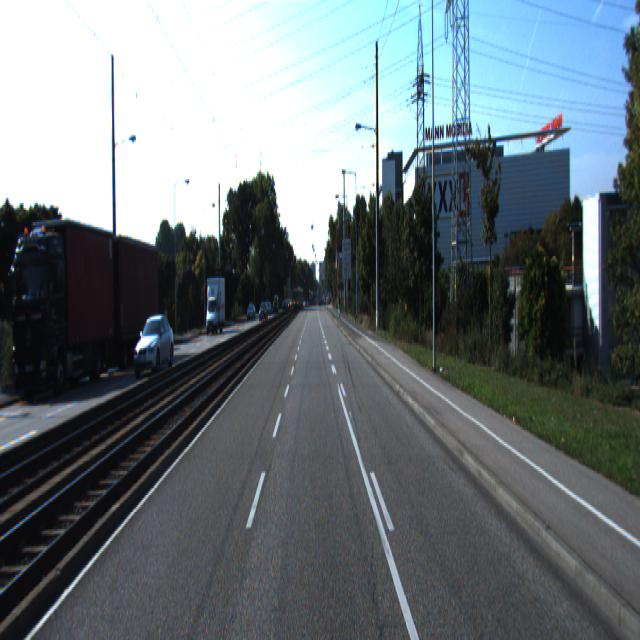Car: (10, 211, 117, 405), (94, 234, 160, 375), (132, 314, 177, 381), (203, 278, 226, 338)
